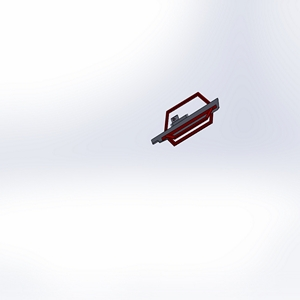submarine: (148, 90, 229, 164)
